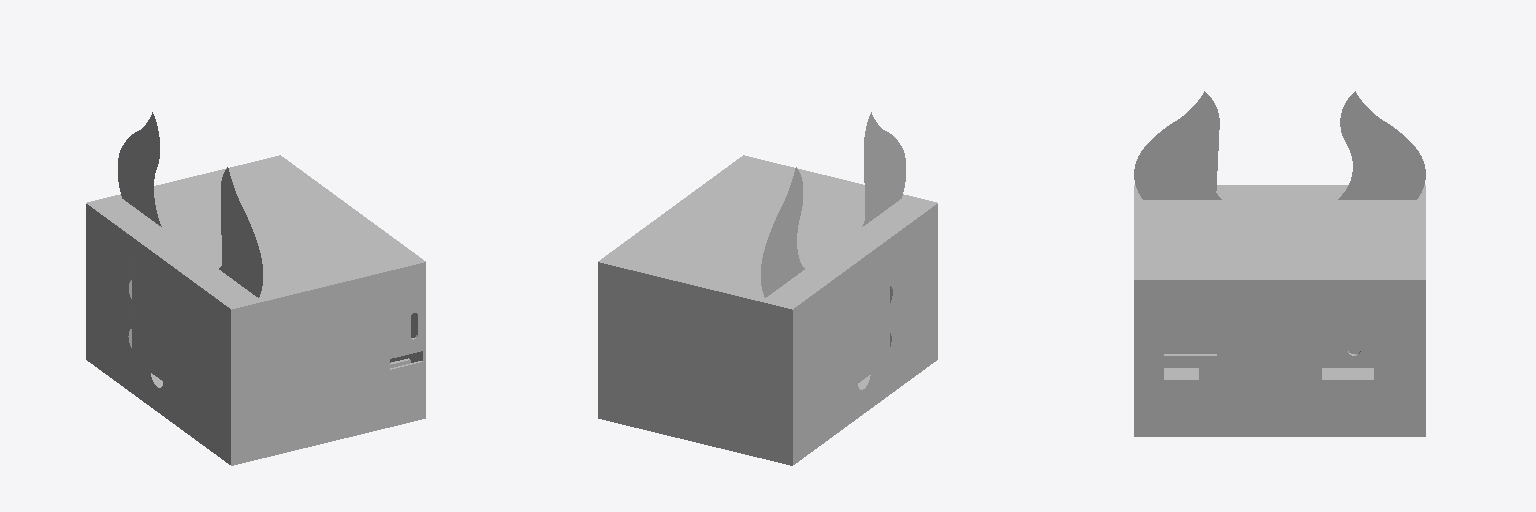
Rendered from Liquid Galaxy Voice Full Colored Object.obj.
3 views of the same model, side by side, from view 1: azimuth 30°, elevation 25°; view 2: azimuth 150°, elevation 25°; view 3: azimuth 270°, elevation 25° (orthographic).
Visible parts, largest first — view 1: Mesh1 Model; view 2: Mesh1 Model; view 3: Mesh1 Model.
Part boxes in pixels (left/top/right/bottom): Mesh1 Model: left=86, top=112, right=425, bottom=465; Mesh1 Model: left=598, top=112, right=937, bottom=465; Mesh1 Model: left=1134, top=91, right=1425, bottom=436.
Bounding box in the file's own units: 215 × 280 × 278.